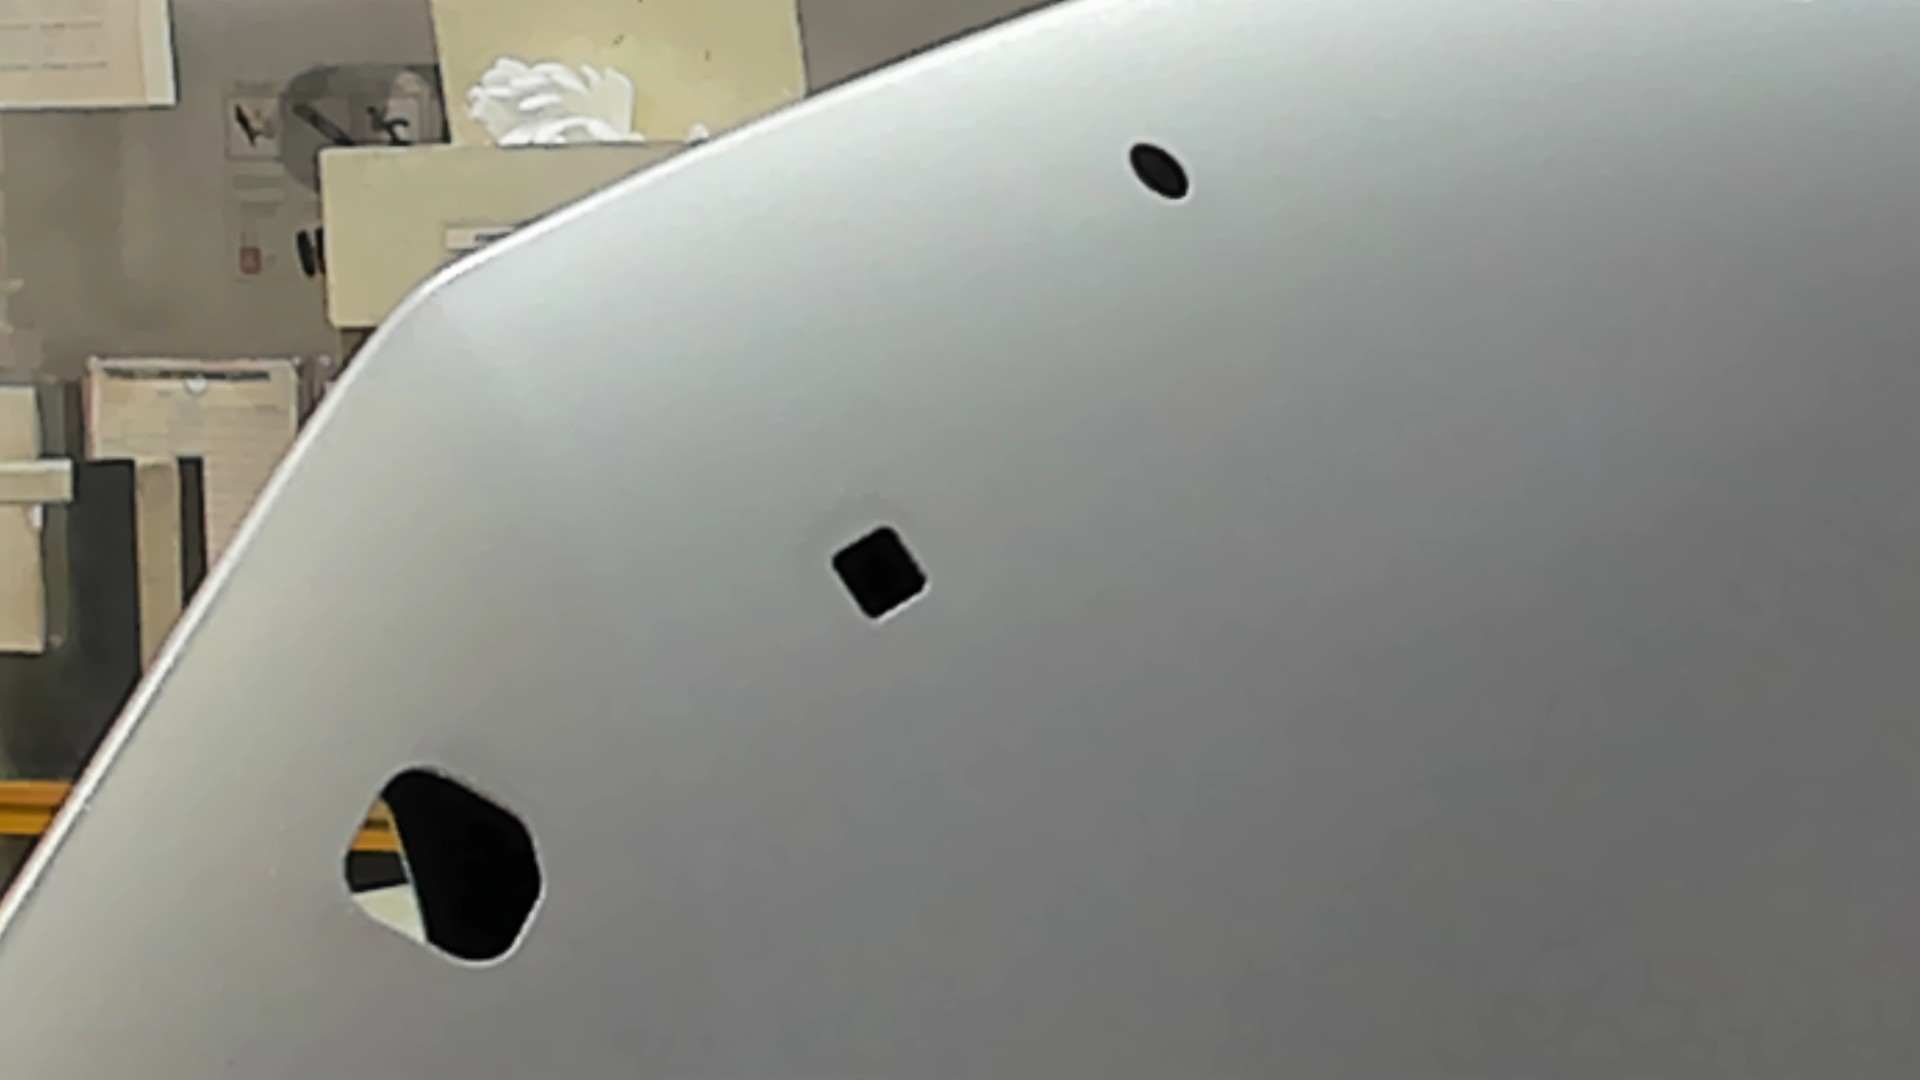Agujero: (829, 524, 928, 621), (1129, 141, 1188, 200)
Agujerote: (342, 767, 549, 967)
